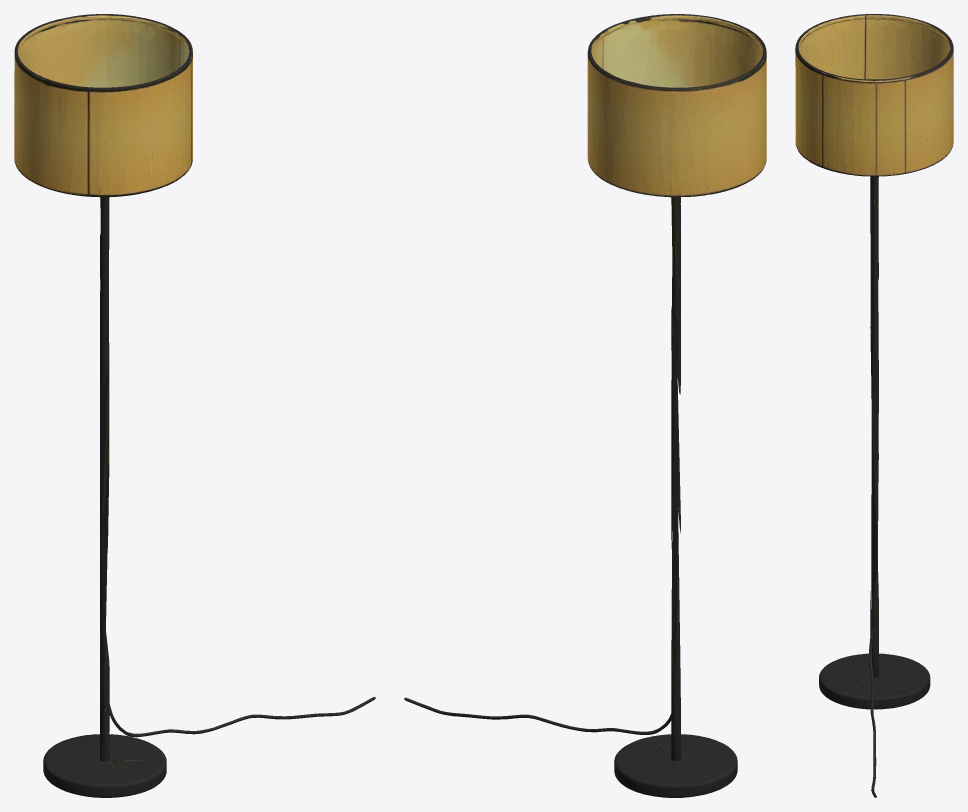
The model's file is floorlamp.glb.
3 renders of one model, left to right at view 1: azimuth 30°, elevation 25°; view 2: azimuth 150°, elevation 25°; view 3: azimuth 270°, elevation 25°, orthographic. The views are drawn at different scales.
Size of the model in its own units: 0.9645 by 1.9 by 0.4263.
1 material, 1 textured.
